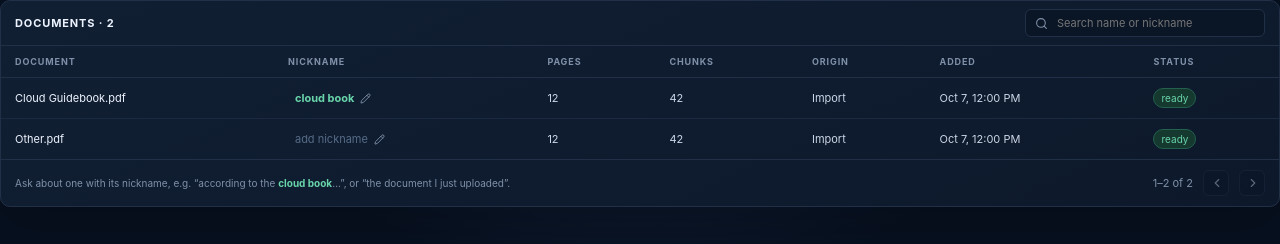
Scenario: DocumentsTable nicknames › clears a previous error after a successful save
The image size is (1280, 244).
Click the button "cloud book": point(333, 98) [288,87,378,109]
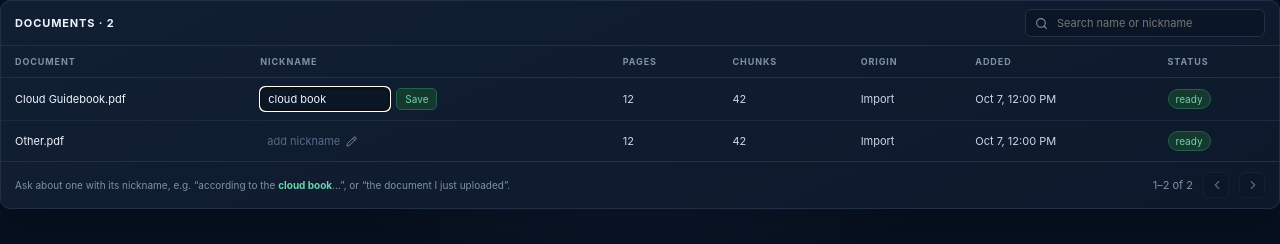
Click the button "Save": point(417, 99) [396,88,437,110]
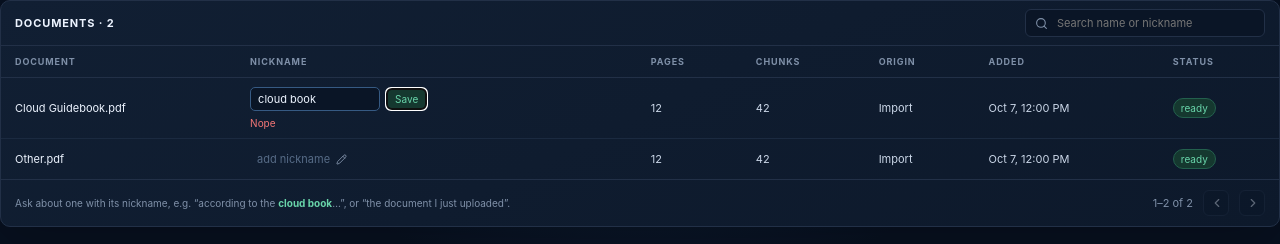
Now the text "Nope" is shown, box [250,117,276,129]
Click the button "Save": point(407, 99) [386,88,427,110]
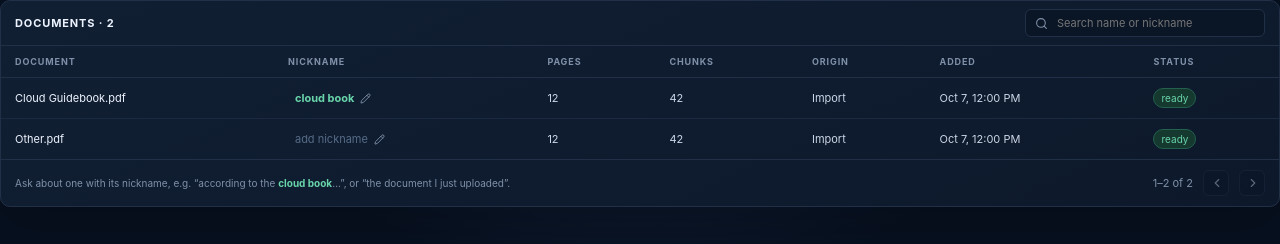
Now the text "Nope" is gone
